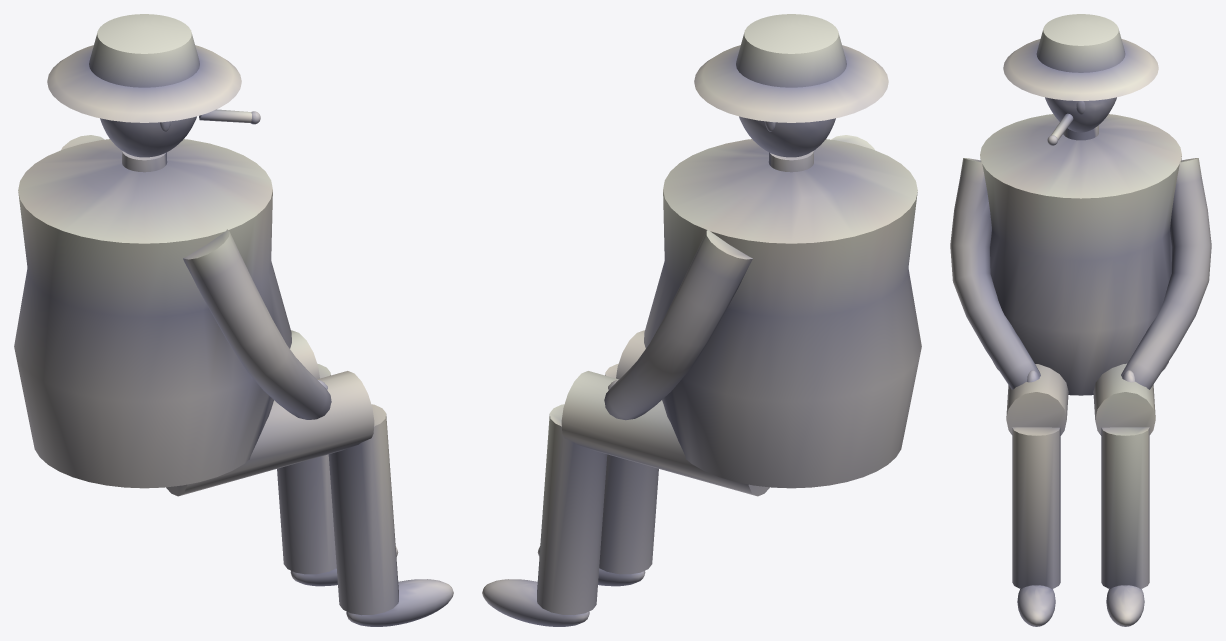
File: sahukar.glb
3 renders of one model, left to right at view 1: azimuth 30°, elevation 25°; view 2: azimuth 150°, elevation 25°; view 3: azimuth 270°, elevation 25°, orthographic. The views are drawn at different scales.
Parts seen in each view (by area): view 1: body; view 2: body; view 3: body.
Boxes of the visible parts, left/top/right/bottom form: body: left=14, top=14, right=453, bottom=626; body: left=482, top=14, right=921, bottom=626; body: left=950, top=14, right=1211, bottom=626.
Size of the model in its own units: 0.898 by 1.38 by 0.6471.
